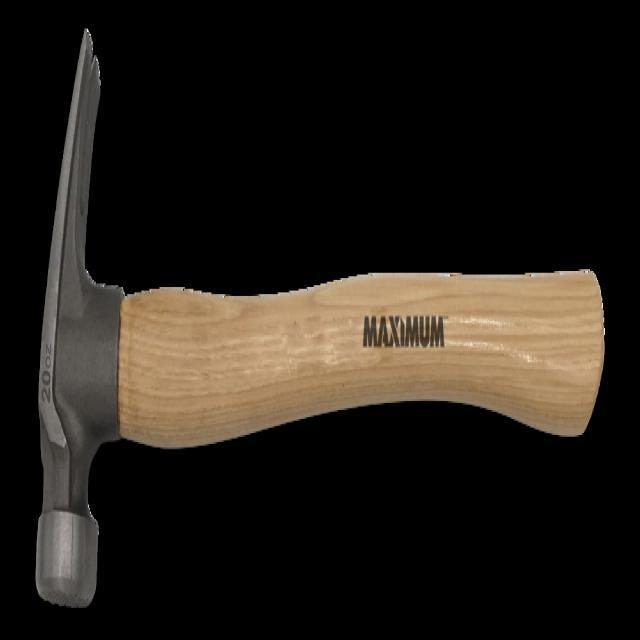hammer: (29, 27, 607, 624)
